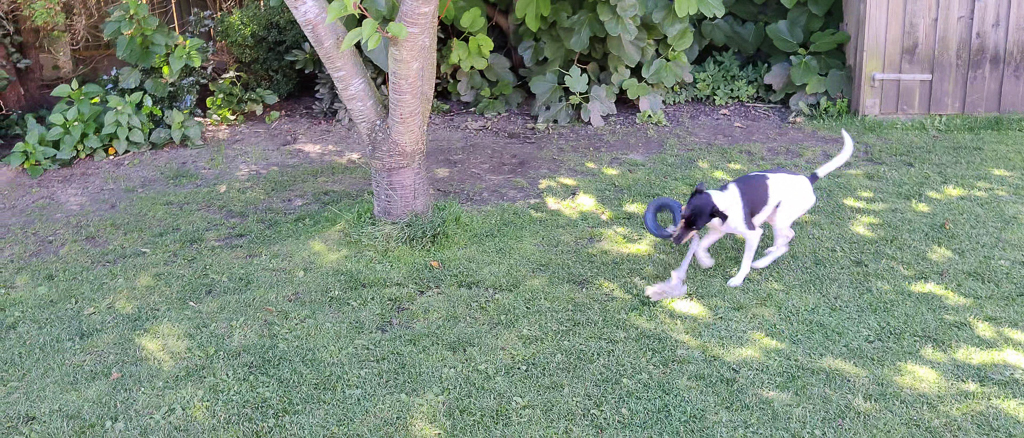Dog: (664, 124, 863, 289)
